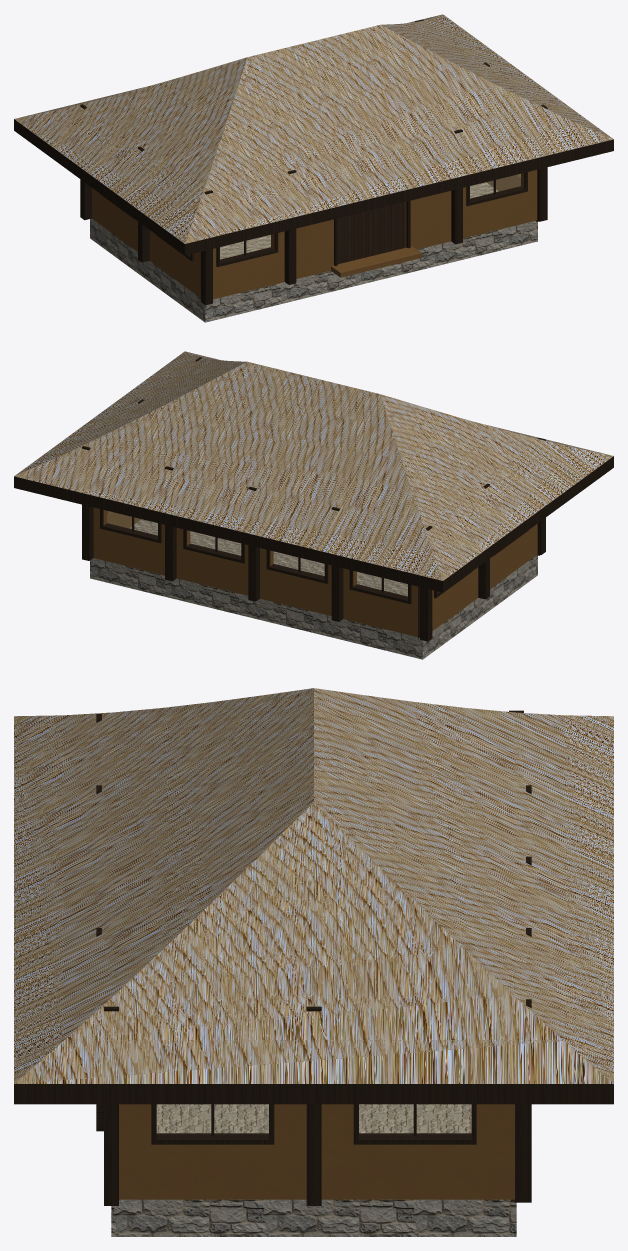
File: ferry_house_01.glb
3 views of the same model, one above another, from view 1: azimuth 30°, elevation 25°; view 2: azimuth 150°, elevation 25°; view 3: azimuth 270°, elevation 25° (orthographic). The views are drawn at different scales.
Visible parts, largest first — view 1: ferry_house_01; view 2: ferry_house_01; view 3: ferry_house_01.
Boxes of the visible parts, x1=… form: ferry_house_01: x1=14, y1=14, x2=613, y2=322; ferry_house_01: x1=14, y1=351, x2=613, y2=659; ferry_house_01: x1=14, y1=688, x2=613, y2=1236.
Bounding box in the file's own units: 11.6 × 5.14 × 8.
Materials: 6 (5 with a texture image).
